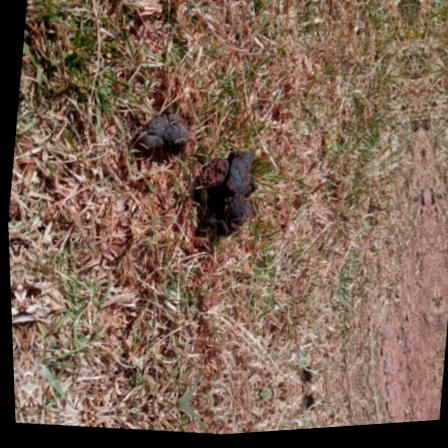dog-poop: (187, 143, 259, 247), (126, 108, 187, 164)
